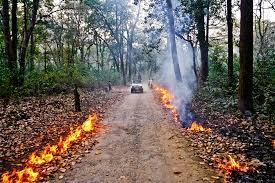fire: (1, 112, 97, 183), (150, 81, 180, 121), (215, 151, 257, 172), (184, 120, 211, 133)
